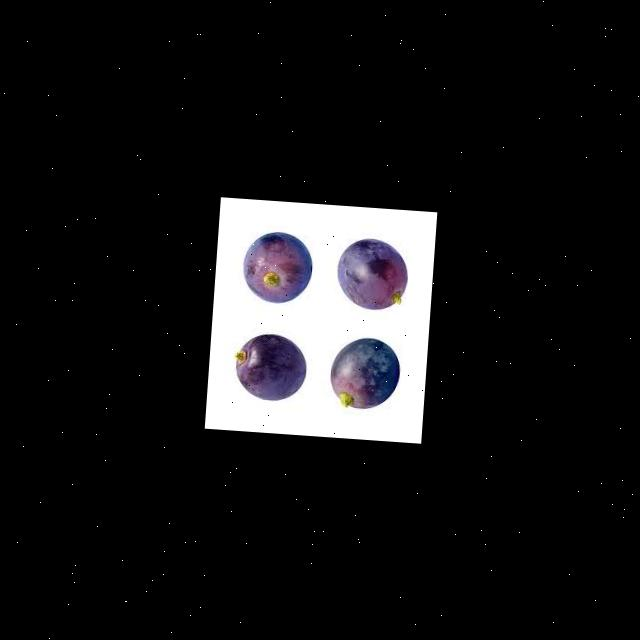grape: (326, 334, 401, 411), (334, 235, 409, 311), (238, 228, 312, 304), (230, 330, 307, 402)
